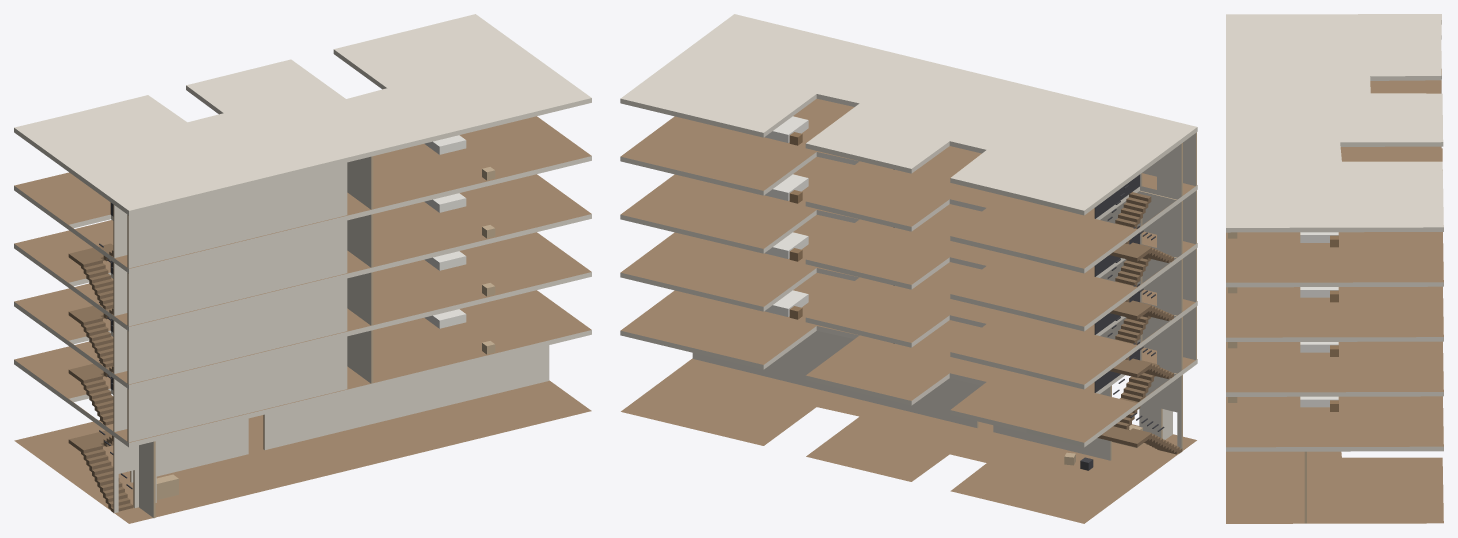
The model's file is interior.glb.
The picture shows the model from 3 angles, left to right: view 1: azimuth 30°, elevation 25°; view 2: azimuth 150°, elevation 25°; view 3: azimuth 270°, elevation 25°; orthographic projection. The views are drawn at different scales.
Visible parts, largest first — view 1: slabs, partitions, stair, coarse-s3, coarse-s4, coarse-s2, coarse-s1; view 2: slabs, partitions, stair, coarse-s2, coarse-s3, coarse-s4, coarse-s1; view 3: slabs, coarse-s1, coarse-s4, coarse-s3, coarse-s2.
Part boxes in pixels (box(x1,y1,x2,y2)): slabs: box(14, 14, 591, 523); partitions: box(113, 156, 549, 518); stair: box(68, 202, 132, 512); coarse-s3: box(424, 193, 495, 238); coarse-s4: box(424, 135, 495, 180); coarse-s2: box(424, 251, 495, 296); coarse-s1: box(424, 309, 495, 354); slabs: box(620, 14, 1197, 523); partitions: box(692, 132, 1196, 460); stair: box(1094, 174, 1182, 454); coarse-s2: box(765, 232, 808, 261); coarse-s3: box(765, 174, 808, 203); coarse-s4: box(765, 116, 808, 145); coarse-s1: box(765, 290, 808, 319); slabs: box(1226, 14, 1443, 523); coarse-s1: box(1228, 396, 1338, 411); coarse-s4: box(1228, 232, 1338, 247); coarse-s3: box(1228, 287, 1338, 302); coarse-s2: box(1228, 342, 1338, 356).
Bounding box in the file's own units: 26.4 × 17.05 × 11.35.
